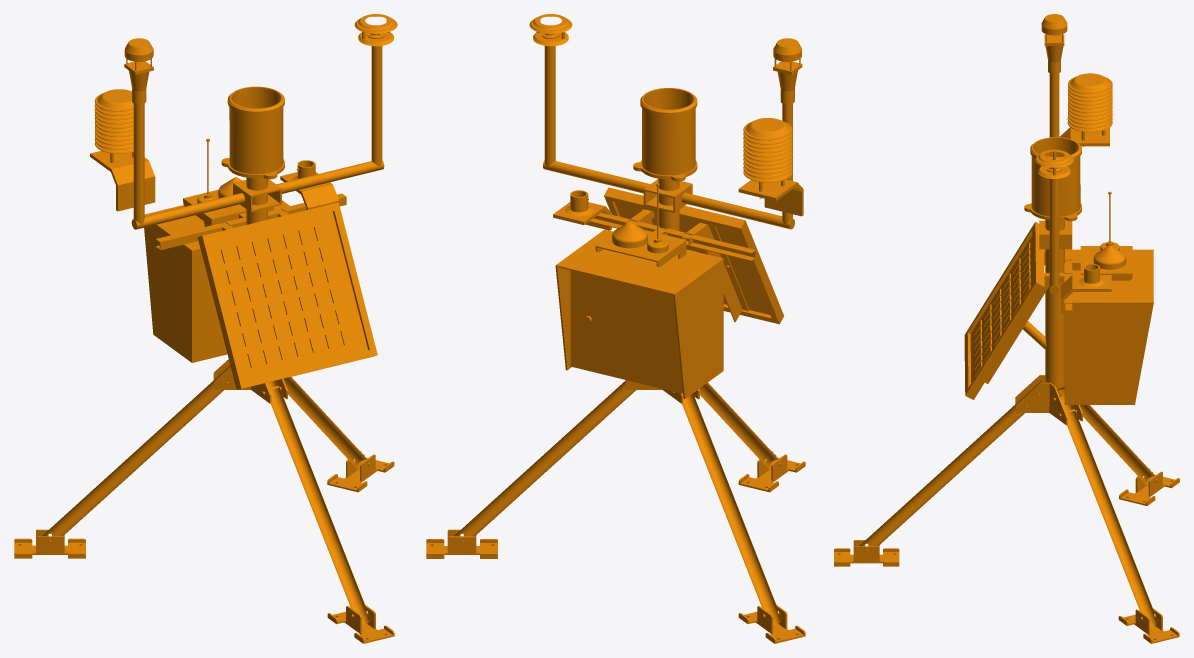
File: EstacaoGenesisBlenderV2.glb
The picture shows the model from 3 angles, left to right: view 1: azimuth 30°, elevation 25°; view 2: azimuth 150°, elevation 25°; view 3: azimuth 270°, elevation 25°; orthographic projection. The views are drawn at different scales.
Visible parts, largest first — view 1: XOR004; view 2: XOR004; view 3: XOR004.
Boxes of the visible parts, x1,y1,x2,y2 form: XOR004: (14,14,397,643); XOR004: (426,14,805,643); XOR004: (834,14,1179,643).
Size of the model in its own units: 1.22 by 1.65 by 1.06.
